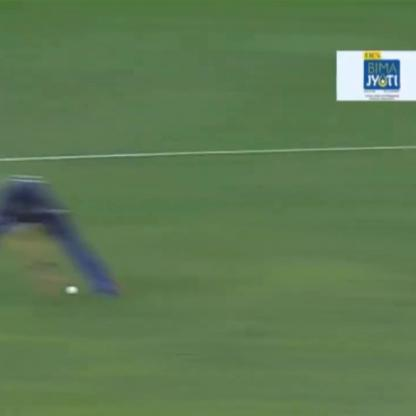ball: (63, 284, 82, 297)
